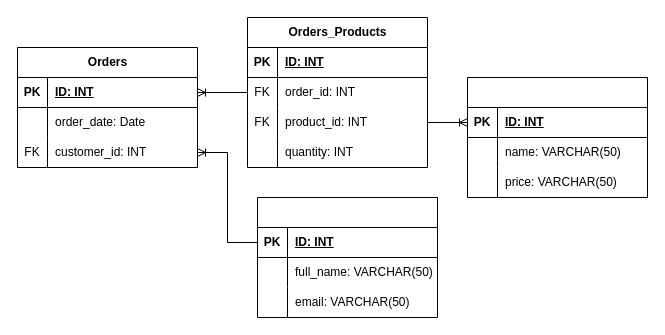
Image size: 665x335. Some labels were removed from this diagram. Each missing label, with the box of its shape:
Customers: (256, 196, 438, 318)
Products: (466, 76, 648, 198)
